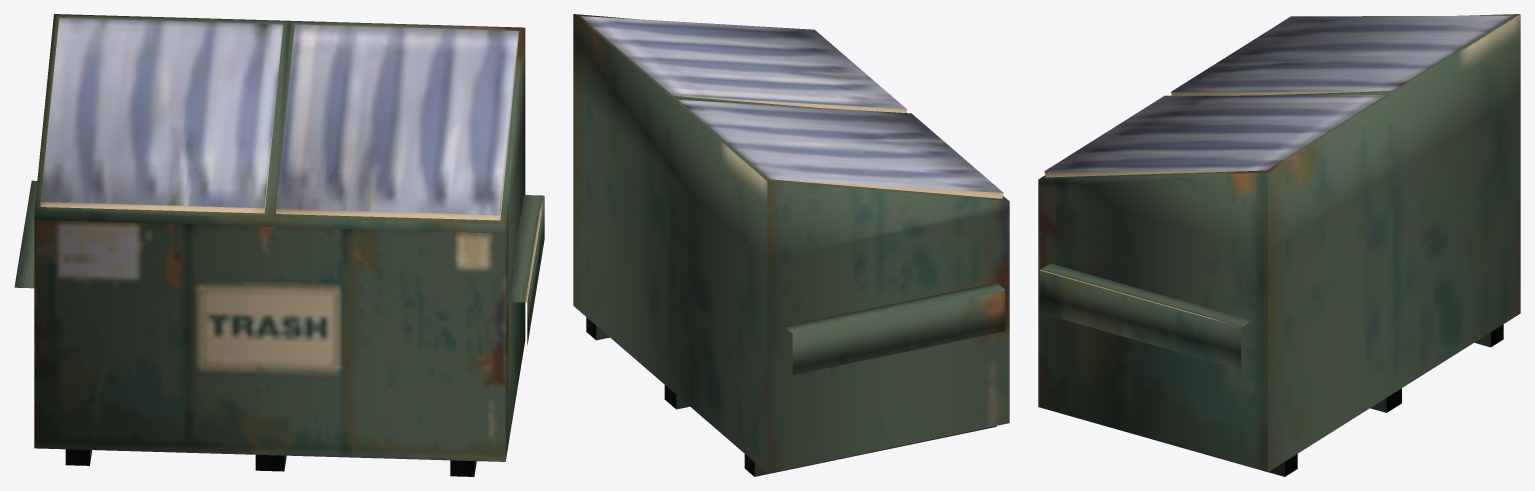
Rendered from dumpster_380b.glb.
3 renders of one model, left to right at view 1: azimuth 30°, elevation 25°; view 2: azimuth 150°, elevation 25°; view 3: azimuth 270°, elevation 25°, orthographic. The views are drawn at different scales.
Parts seen in each view (by area): view 1: dumpster_380b; view 2: dumpster_380b; view 3: dumpster_380b.
Boxes of the visible parts, bbox=[...] form: dumpster_380b: bbox=[14, 14, 544, 476]; dumpster_380b: bbox=[573, 14, 1009, 476]; dumpster_380b: bbox=[1038, 14, 1520, 476].
Size of the model in its own units: 1.96 by 1.25 by 1.74.
1 material, 1 textured.
